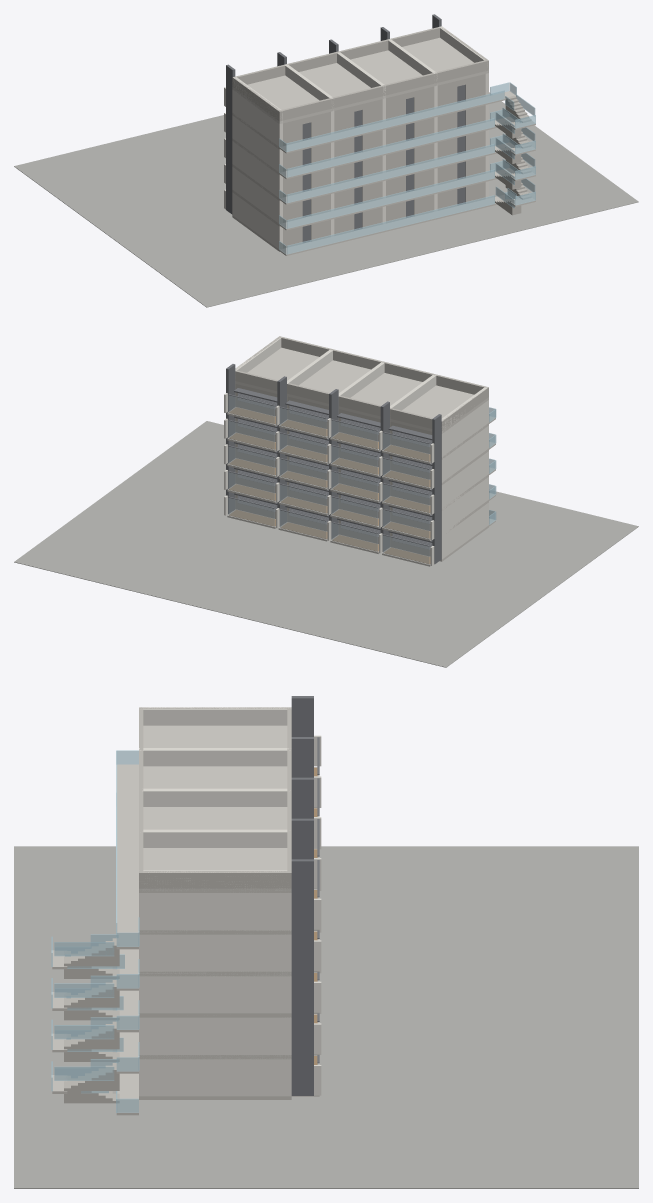
File: privacy_apartments.glb
3 renders of one model, top to bottom at view 1: azimuth 30°, elevation 25°; view 2: azimuth 150°, elevation 25°; view 3: azimuth 270°, elevation 25°, orthographic. The views are drawn at different scales.
Parts seen in each view (by area): view 1: Plaza, PartyPrivacyWall_00, Slab_05, Parapet_Back, Parapet_Front, FloorHandrailRear_F04, FloorHandrailRear_F00, FloorHandrailRear_F01, FloorHandrailRear_F03, FloorHandrailRear_F02, RearWalkway_01, RearWalkway_03 (+17 smaller); view 2: Plaza, PartyPrivacyWall_00, Slab_05, Parapet_Back, Parapet_Front, FacadePrivacyFin_00, FacadePrivacyFin_01, FacadePrivacyFin_02, FacadePrivacyFin_04, FacadePrivacyFin_03, BalconyFrontScreen_F02_U01, BalconyFrontScreen_F01_U01 (+23 smaller); view 3: Plaza, PartyPrivacyWall_04, Slab_05, FacadePrivacyFin_04, RearWalkway_04, PartyPrivacyWall_01, PartyPrivacyWall_02, PartyPrivacyWall_03, Parapet_Right, PartyPrivacyWall_00, FacadePrivacyFin_02, FacadePrivacyFin_03 (+12 smaller).
Part boxes in pixels (left/top/right/bottom): Plaza: left=14, top=92, right=638, bottom=307; PartyPrivacyWall_00: left=232, top=77, right=282, bottom=249; Slab_05: left=232, top=37, right=488, bottom=123; Parapet_Back: left=278, top=60, right=488, bottom=121; Parapet_Front: left=232, top=27, right=439, bottom=86; FloorHandrailRear_F04: left=286, top=90, right=504, bottom=151; FloorHandrailRear_F00: left=287, top=195, right=494, bottom=254; FloorHandrailRear_F01: left=287, top=169, right=494, bottom=228; FloorHandrailRear_F03: left=287, top=118, right=494, bottom=177; FloorHandrailRear_F02: left=287, top=144, right=494, bottom=203; RearWalkway_01: left=279, top=173, right=495, bottom=230; RearWalkway_03: left=279, top=122, right=495, bottom=179; Plaza: left=14, top=421, right=638, bottom=667; PartyPrivacyWall_00: left=441, top=387, right=488, bottom=559; Slab_05: left=235, top=347, right=488, bottom=433; Parapet_Back: left=278, top=336, right=488, bottom=394; Parapet_Front: left=235, top=370, right=443, bottom=430; FacadePrivacyFin_00: left=432, top=414, right=441, bottom=564; FacadePrivacyFin_01: left=380, top=401, right=389, bottom=551; FacadePrivacyFin_02: left=329, top=389, right=338, bottom=538; FacadePrivacyFin_04: left=226, top=364, right=235, bottom=513; FacadePrivacyFin_03: left=277, top=376, right=286, bottom=526; BalconyFrontScreen_F02_U01: left=331, top=471, right=378, bottom=500; BalconyFrontScreen_F01_U01: left=331, top=497, right=378, bottom=525; Plaza: left=14, top=846, right=638, bottom=1188; PartyPrivacyWall_04: left=139, top=870, right=291, bottom=1096; Slab_05: left=139, top=725, right=291, bottom=892; FacadePrivacyFin_04: left=291, top=859, right=313, bottom=1095; RearWalkway_04: left=116, top=764, right=138, bottom=929; PartyPrivacyWall_01: left=139, top=748, right=290, bottom=766; PartyPrivacyWall_02: left=142, top=788, right=290, bottom=806; PartyPrivacyWall_03: left=143, top=829, right=287, bottom=847; Parapet_Right: left=139, top=871, right=291, bottom=888; PartyPrivacyWall_00: left=139, top=707, right=291, bottom=725; FacadePrivacyFin_02: left=291, top=777, right=313, bottom=818; FacadePrivacyFin_03: left=291, top=818, right=313, bottom=859.
Size of what is drawn, in the model's own units: 58.25 by 19 by 45.
